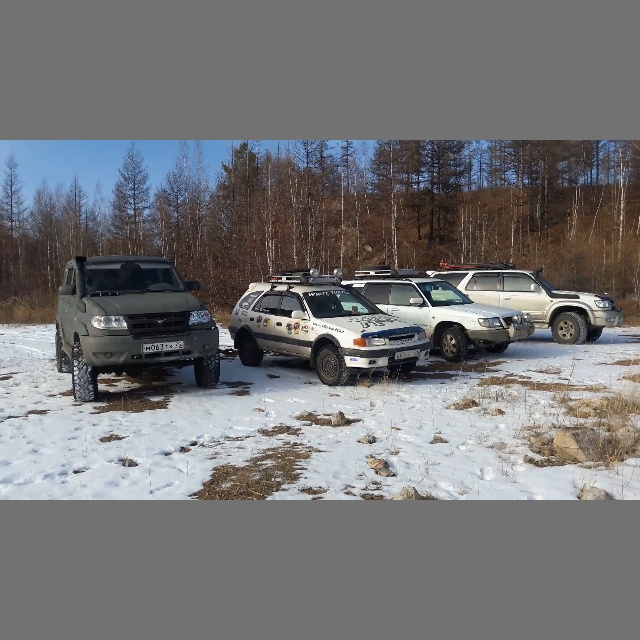Внедорожник: (56, 255, 216, 400), (231, 274, 430, 382), (345, 272, 522, 357), (441, 266, 617, 339)
